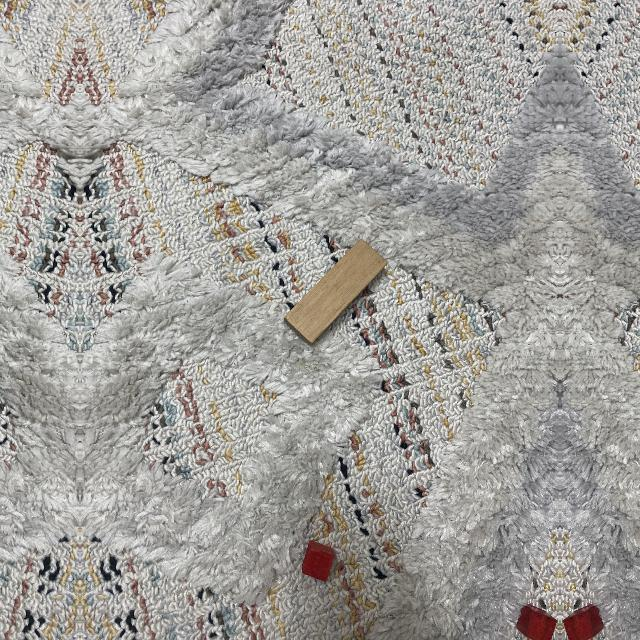jenga: (283, 239, 388, 346)
red cube: (299, 540, 333, 580), (516, 606, 556, 640), (564, 606, 604, 640)
